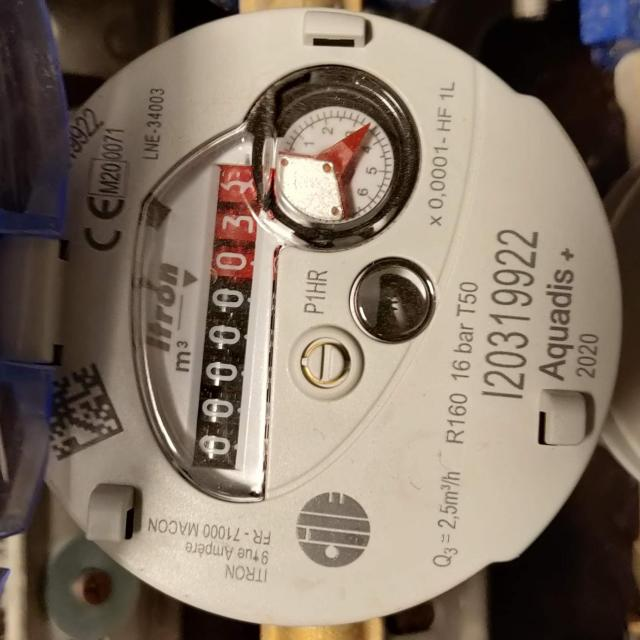gaz_meter: (14, 5, 620, 625)
indication: (186, 161, 270, 477)
